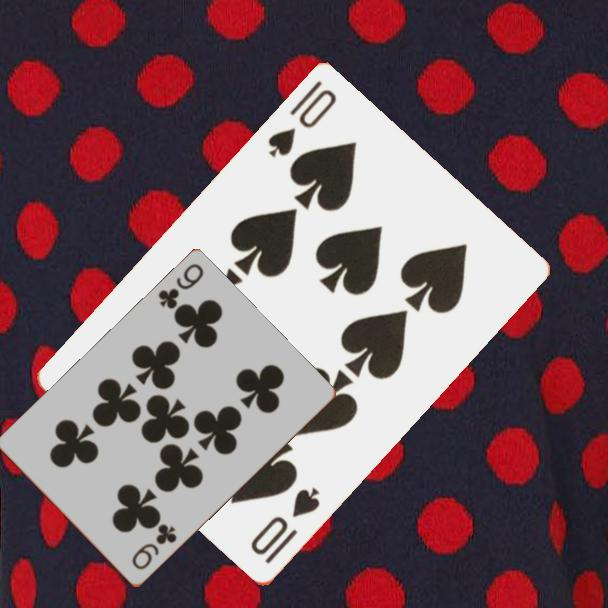c09: (128, 520, 180, 573), (155, 260, 207, 312)
s10: (247, 484, 324, 568), (264, 77, 340, 161)
